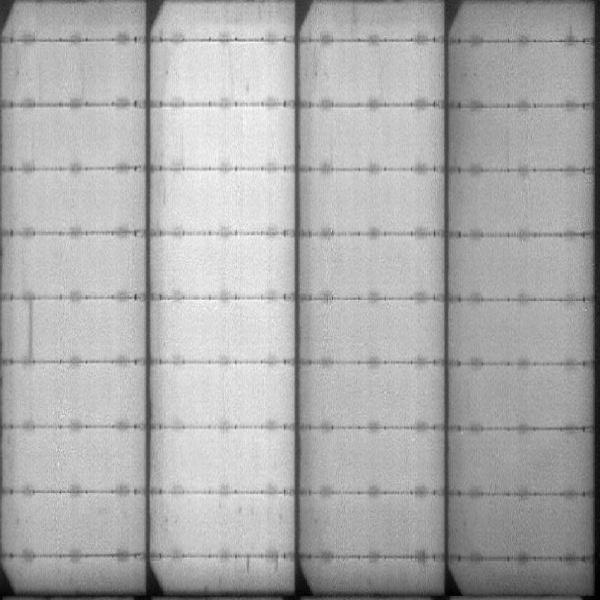scratch: (26, 299, 37, 359)
